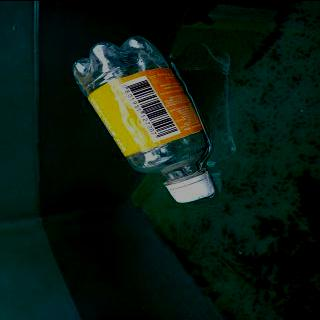bottle: (68, 32, 216, 205)
